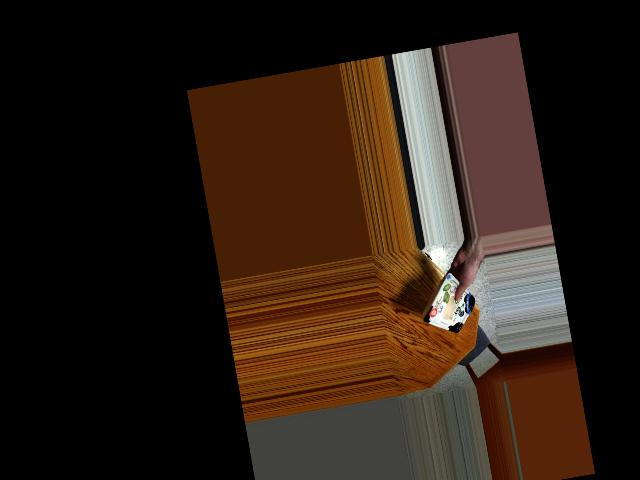cheese: (421, 278, 474, 338)
